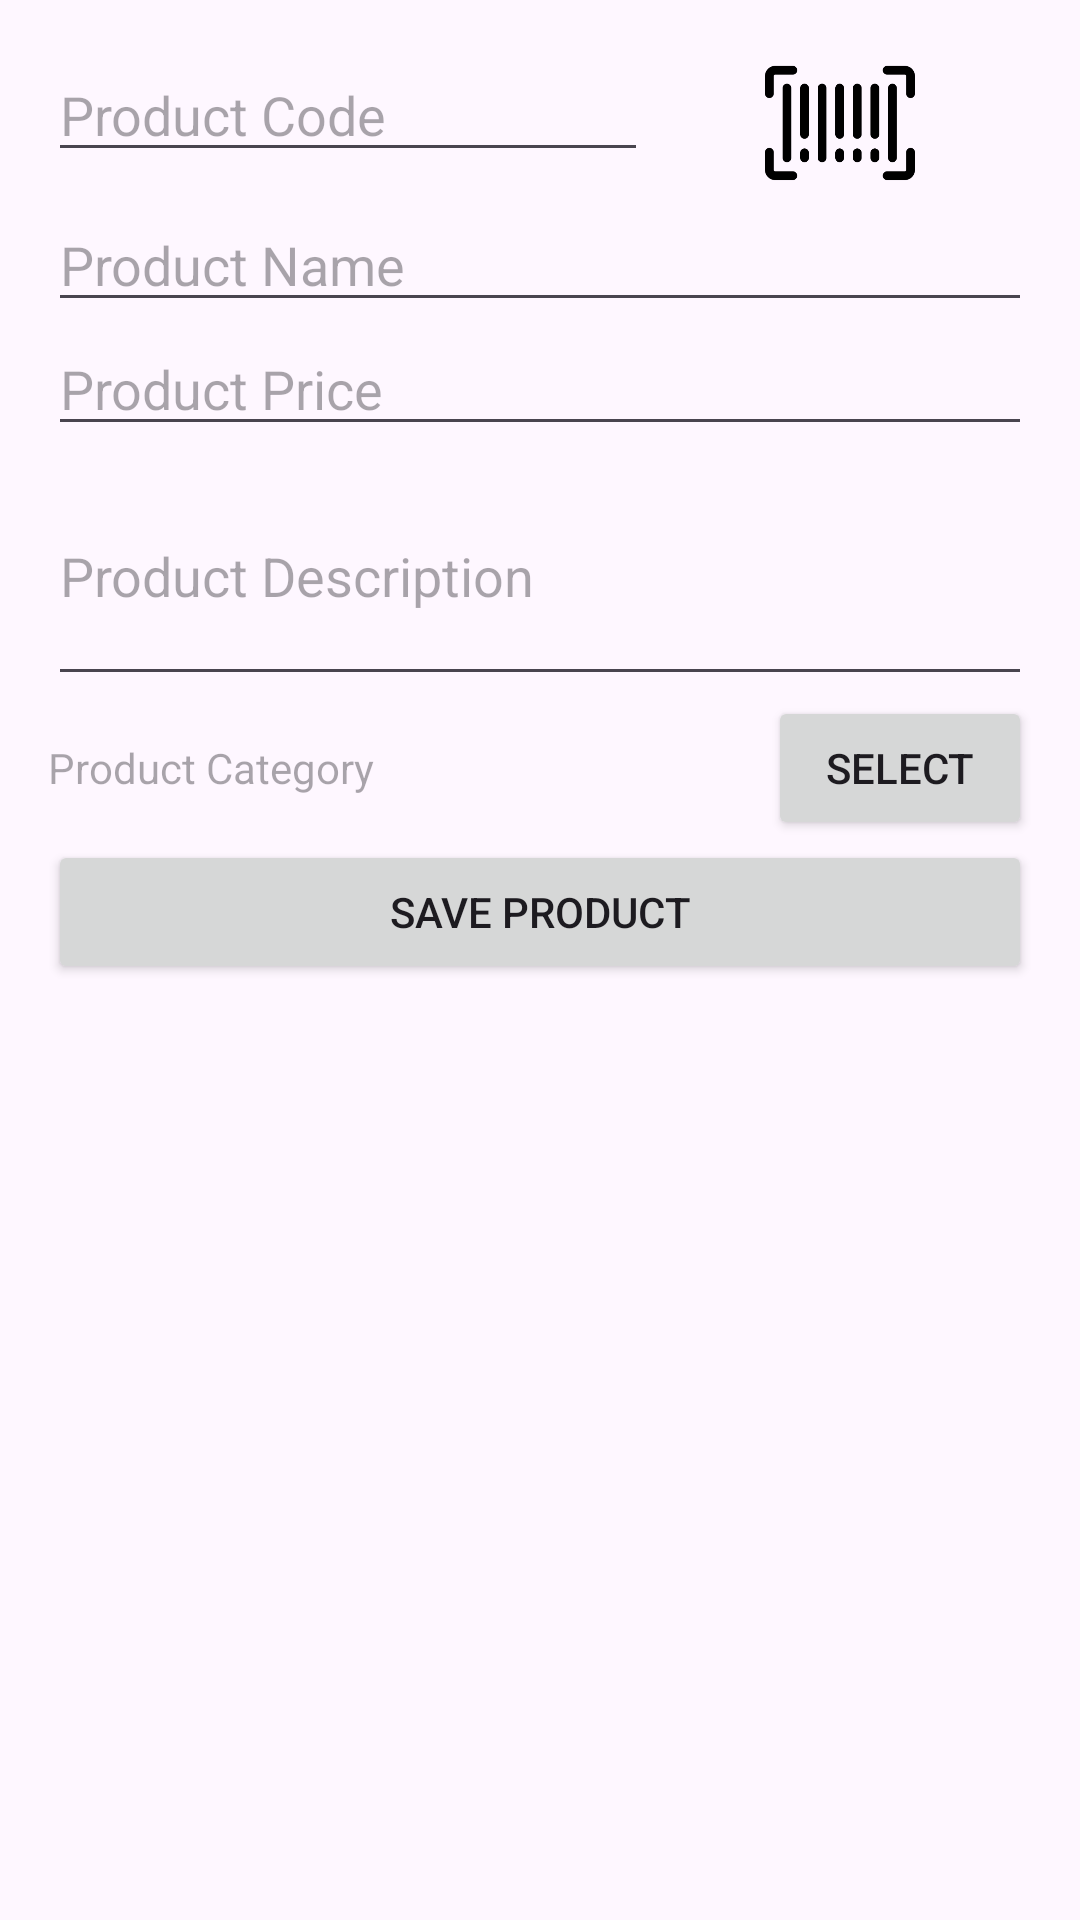

Icons on this 1080px×1920px Android screen, each with the point to tap as (x=x, y=y):
barcode: (x=840, y=123)
